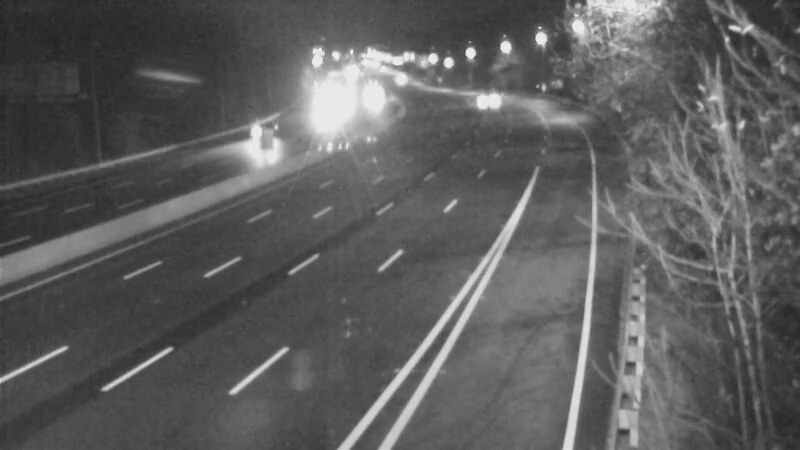vehicle: (373, 55, 423, 105), (448, 75, 498, 125), (229, 109, 279, 159), (349, 74, 399, 124)
